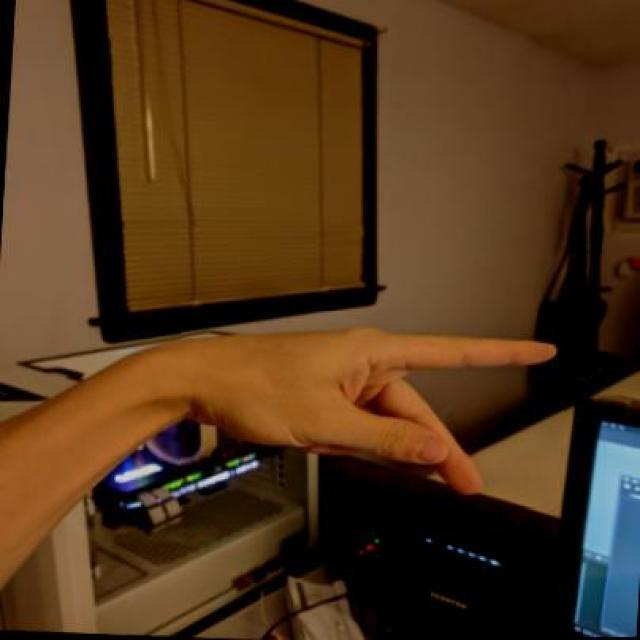P: (181, 312, 564, 510)
